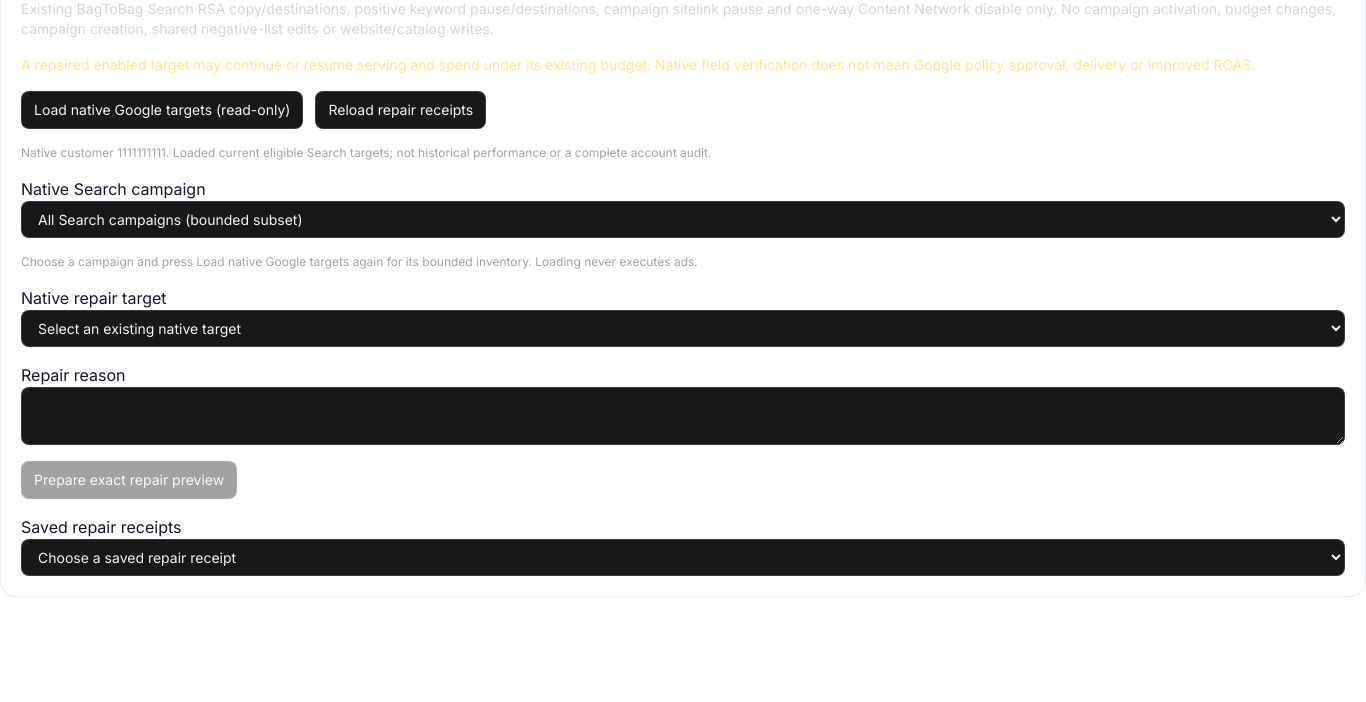
Scenario: prepares only the selected existing native target and requires two confirmations before executing
Select "Fixture RSA — ENABLED" in the dropdown labelled "Native repair target" at [683, 328], box x1=21 y1=310 x2=1345 y2=347
(page scrolled)
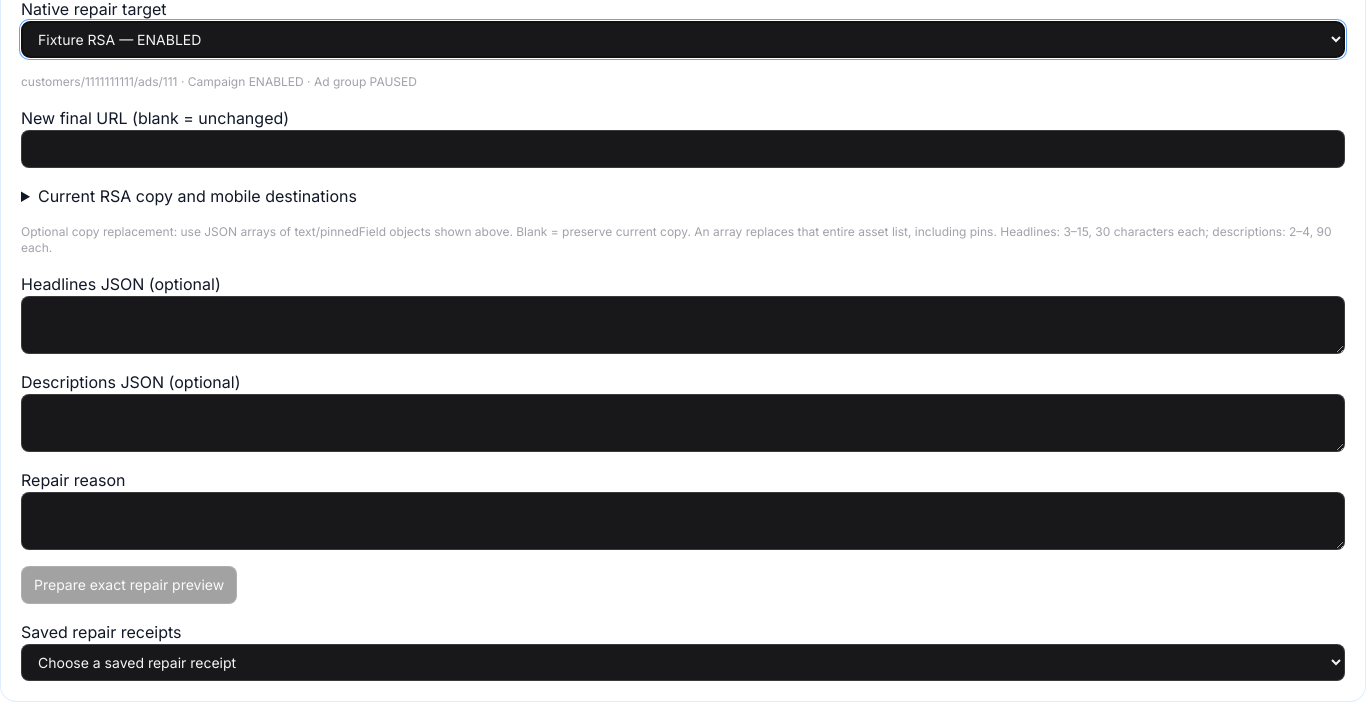
Type "Repair obsolete destination" into the text box labelled "Repair reason" at [683, 521], box x1=21 y1=492 x2=1345 y2=550
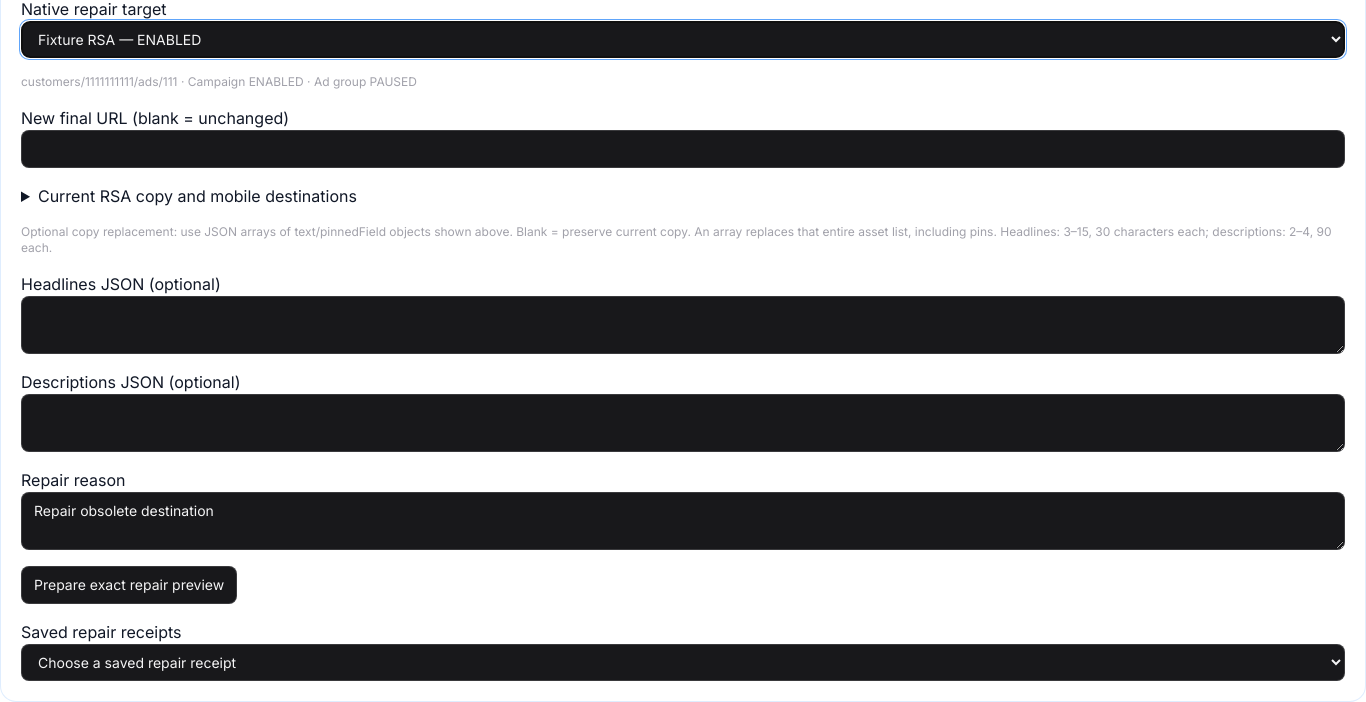
Type "https://bagtobag.com.gr/wallet-portofolia/" into the field labelled "New final URL (blank = unchanged)" at [683, 149], box x1=21 y1=130 x2=1345 y2=168
Click the button "Prepare exact repair preview" at [129, 585], box x1=21 y1=566 x2=237 y2=604
(page scrolled)
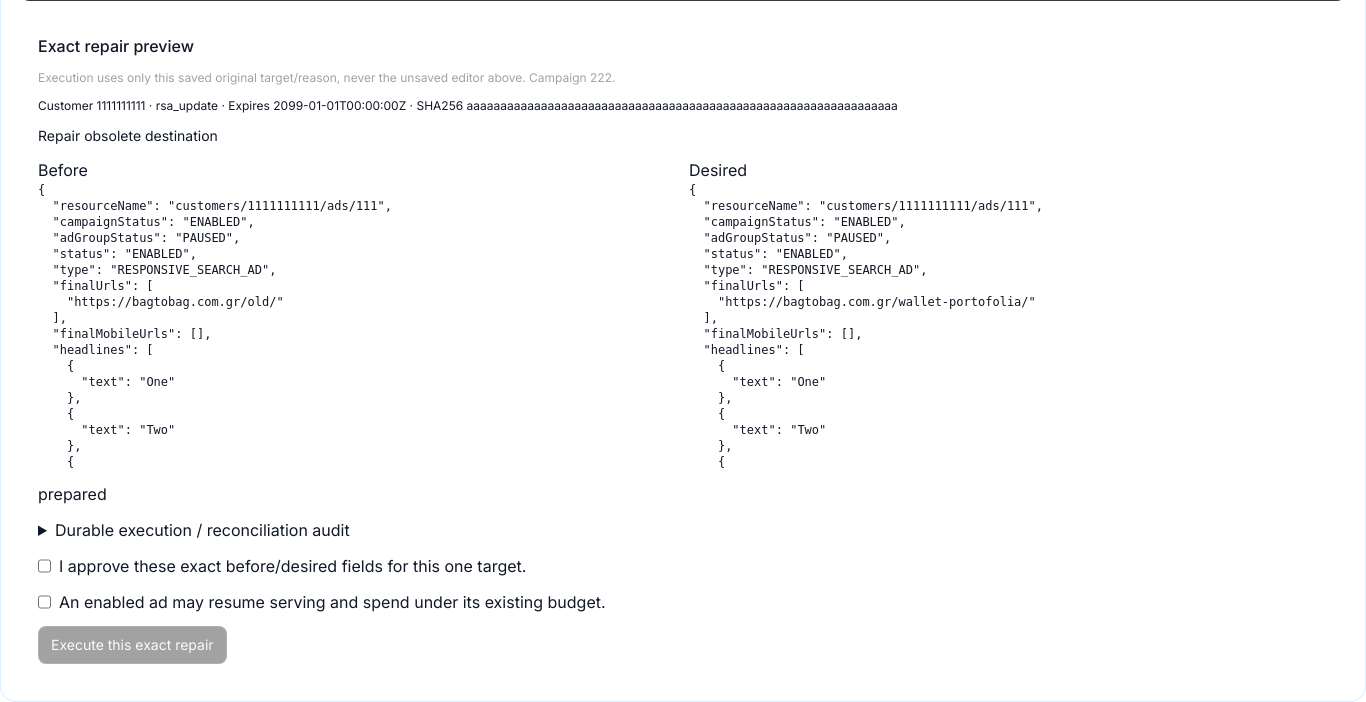
Check: the heading "Exact repair preview" is shown, box x1=38 y1=36 x2=194 y2=56
Check: the button "Execute this exact repair" is disabled, box x1=38 y1=626 x2=227 y2=664
Click the checkbox labelled "I approve these exact before" at [44, 566], box x1=38 y1=554 x2=51 y2=578
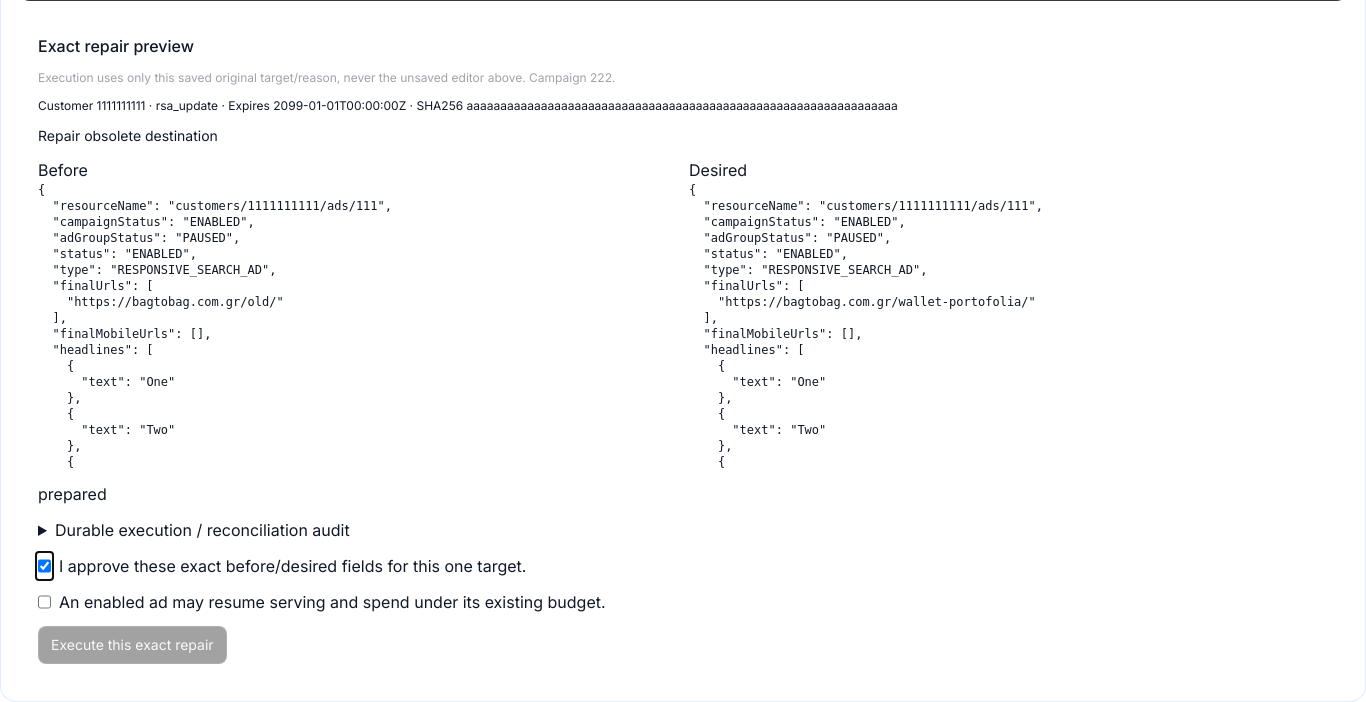
Check: the button "Execute this exact repair" is disabled, box x1=38 y1=626 x2=227 y2=664
Click the checkbox labelled "An enabled ad may resume serving" at [44, 602], box x1=38 y1=590 x2=51 y2=614
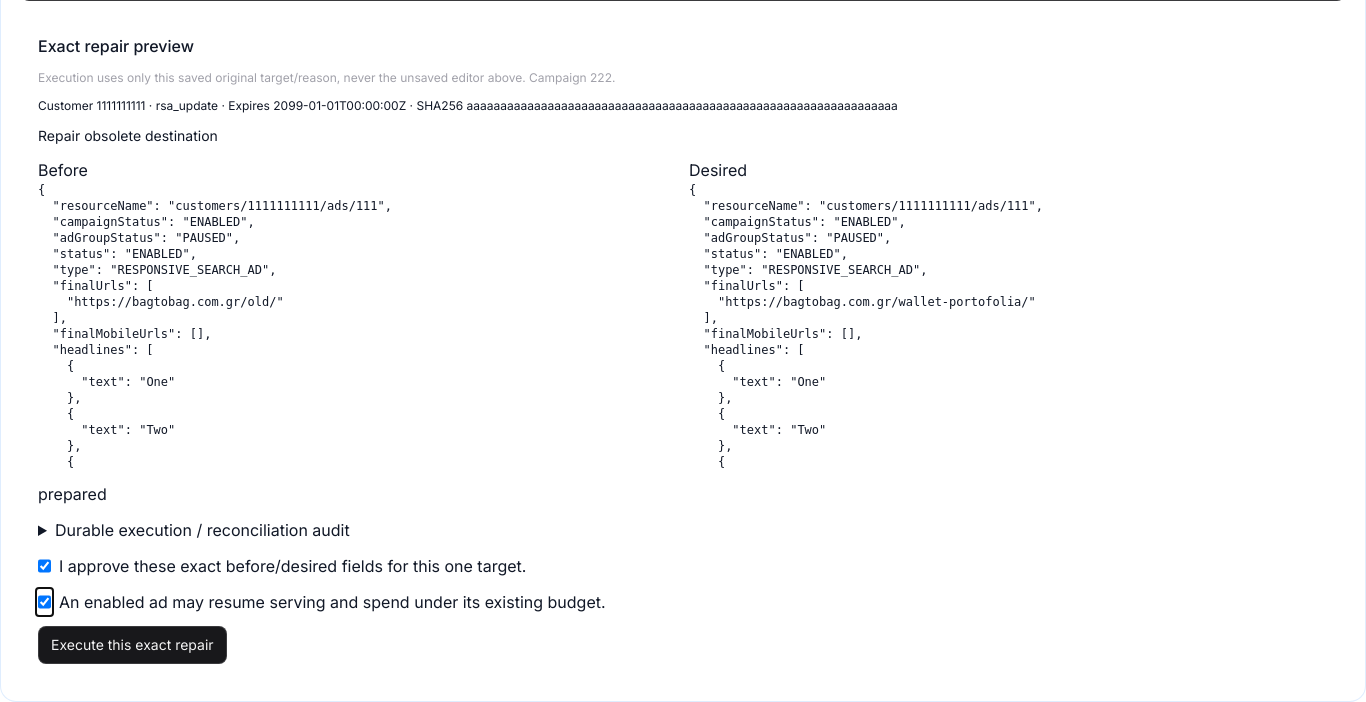
Click the button "Execute this exact repair" at [132, 645], box x1=38 y1=626 x2=227 y2=664
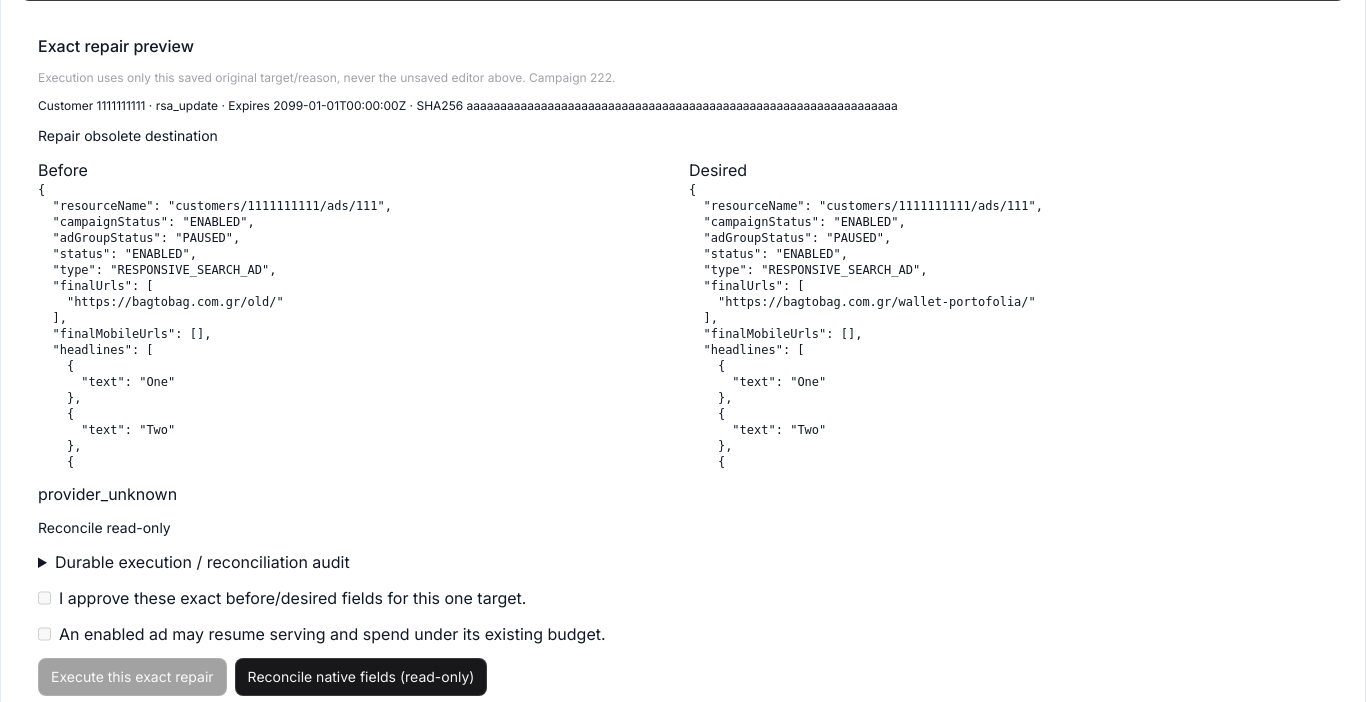
Check: the text "provider_unknown" is shown, box x1=38 y1=484 x2=177 y2=504
Check: the button "Execute this exact repair" is disabled, box x1=38 y1=658 x2=227 y2=696
Check: the button "Reconcile native fields (read-only)" is enabled, box x1=235 y1=658 x2=487 y2=696
